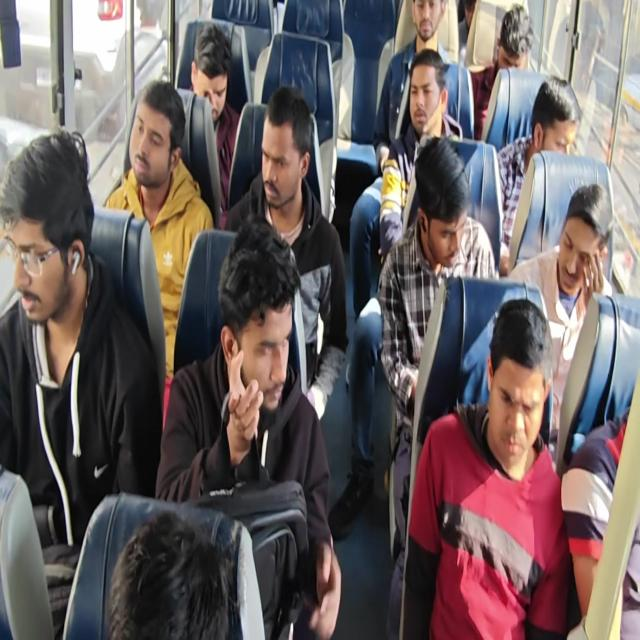person: (3, 127, 107, 337), (104, 499, 228, 640), (219, 224, 299, 424), (488, 306, 553, 484), (411, 136, 471, 269), (129, 71, 183, 201), (258, 86, 310, 214), (558, 180, 607, 302), (528, 70, 586, 164), (193, 18, 233, 115), (406, 51, 449, 129), (499, 1, 534, 80), (409, 0, 446, 42)
